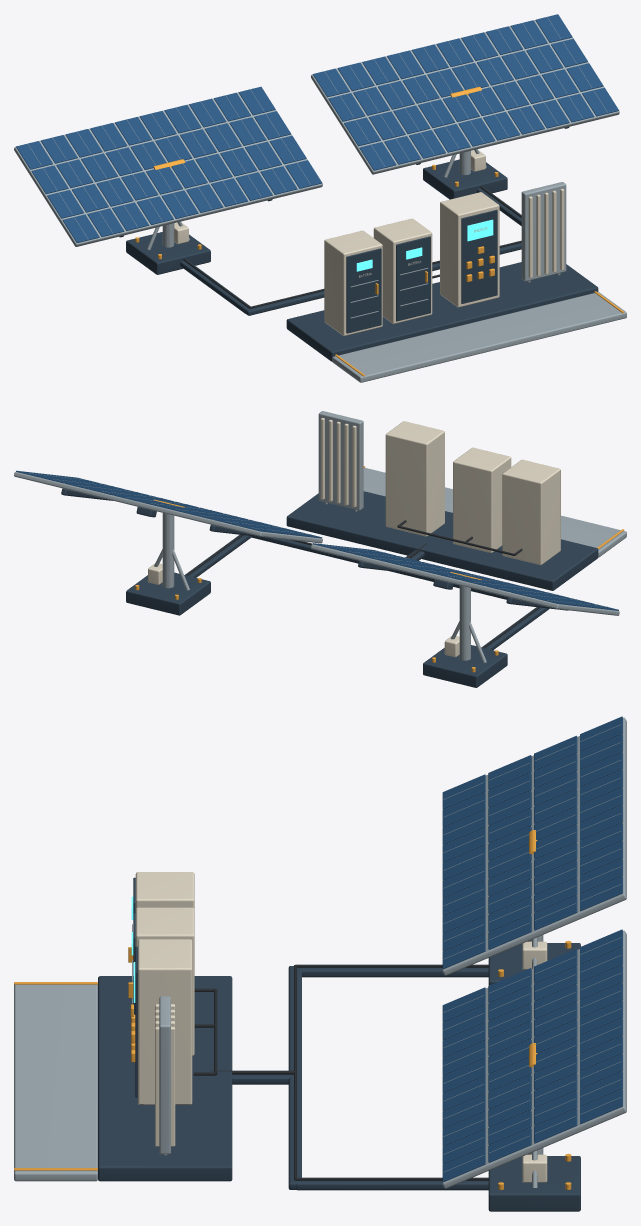
The model's file is energy.glb.
3 views of the same model, one above another, from view 1: azimuth 30°, elevation 25°; view 2: azimuth 150°, elevation 25°; view 3: azimuth 270°, elevation 25° (orthographic). The views are drawn at different scales.
Parts seen in each view (by area): view 1: Body; view 2: Body; view 3: Body.
Boxes of the visible parts, x1,y1,x2,y2 form: Body: [14, 14, 626, 382]; Body: [14, 411, 626, 687]; Body: [14, 716, 626, 1211].
Bounding box in the file's own units: 11 × 2.31 × 7.3.
